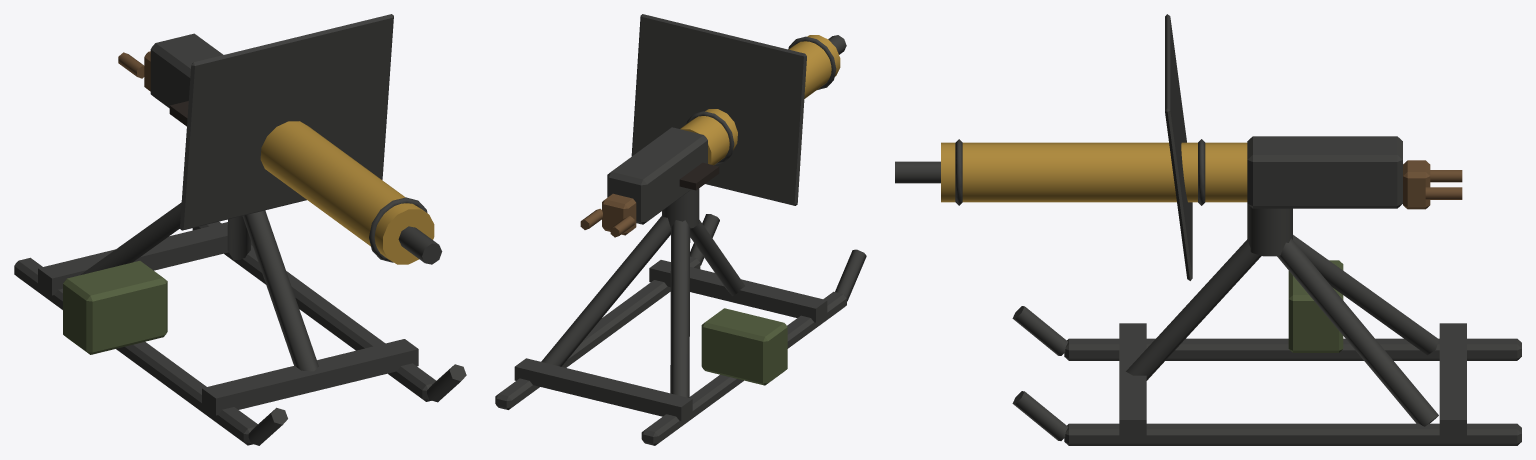
The model's file is maxim_mg.glb.
3 renders of one model, left to right at view 1: azimuth 30°, elevation 25°; view 2: azimuth 150°, elevation 25°; view 3: azimuth 270°, elevation 25°, orthographic. The views are drawn at different scales.
Visible parts, largest first — view 1: gun_mesh, mount; view 2: gun_mesh, mount; view 3: mount, gun_mesh.
Part boxes in pixels (left/top/right/bottom): gun_mesh: left=63, top=14, right=442, bottom=354; mount: left=14, top=202, right=466, bottom=445; gun_mesh: left=580, top=14, right=846, bottom=385; mount: left=495, top=188, right=866, bottom=445; mount: left=1012, top=204, right=1521, bottom=445; gun_mesh: left=895, top=14, right=1462, bottom=352.
Size of the model in its own units: 0.6 by 0.8185 by 1.37.
